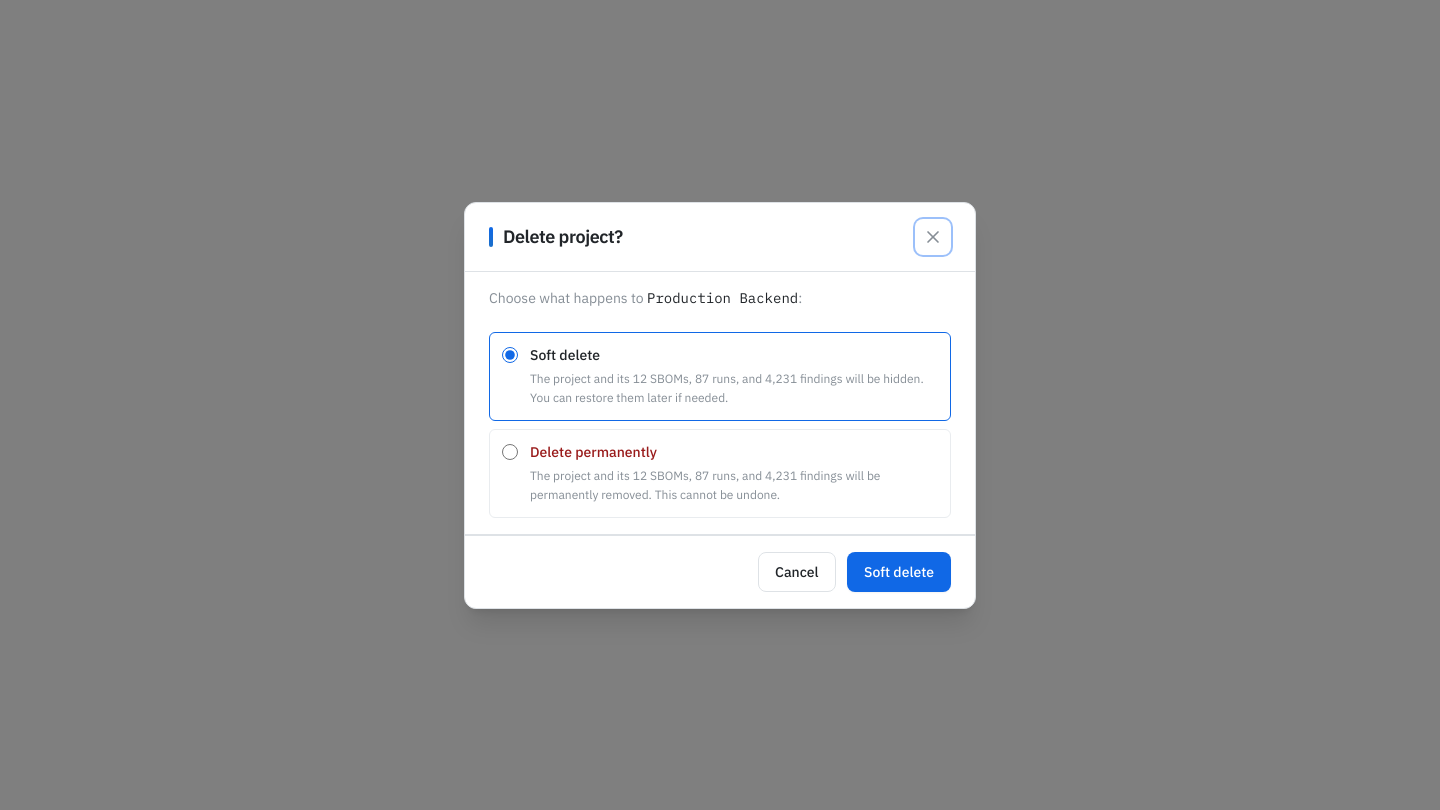
Test: DeleteConfirmDialog › shows the typed-name confirmation when permanent is selected
The image size is (1440, 810).
Step 1. Click the radio button labelled "Delete permanently" → (510, 452), box 502,444 -> 518,460
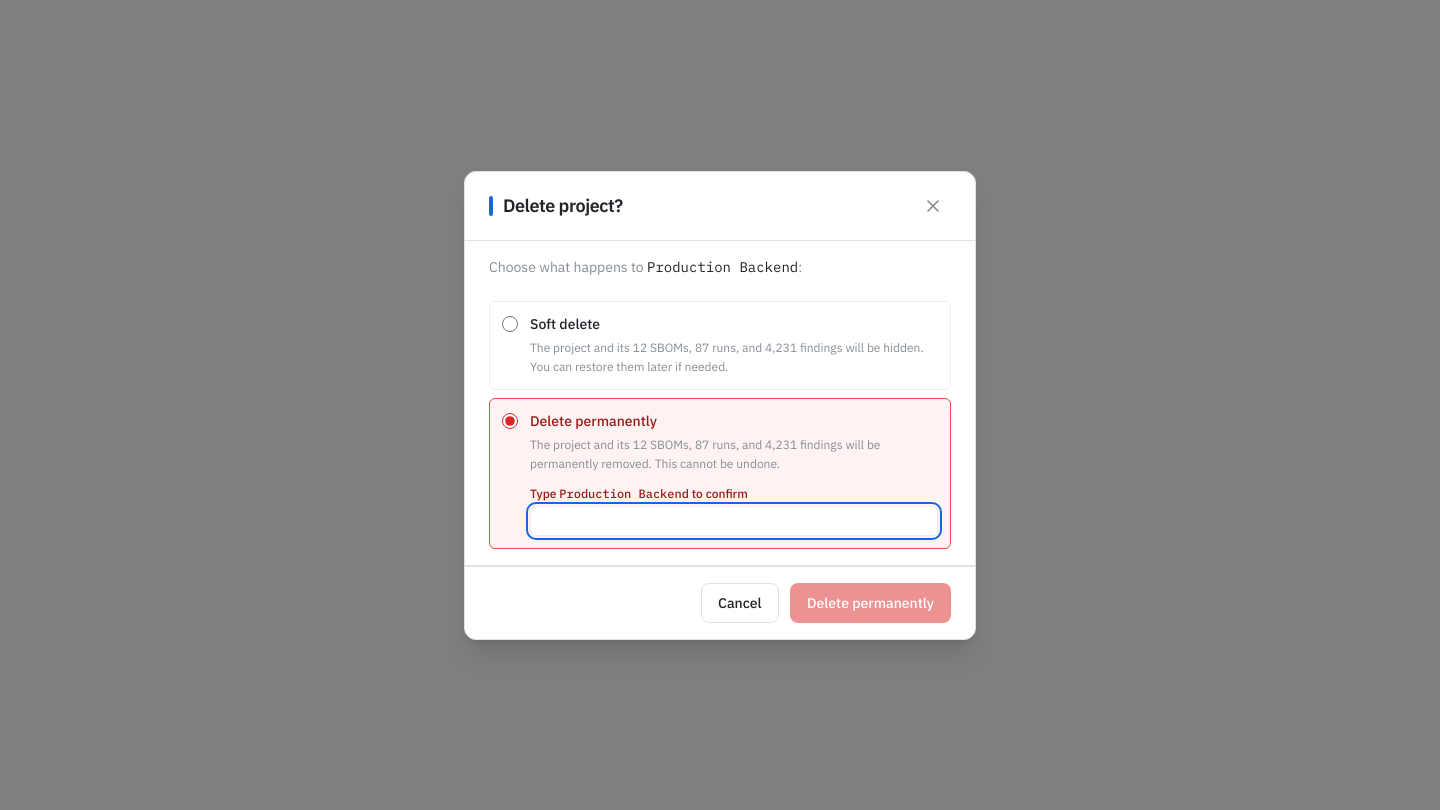
Check: the field labelled "Type Production Backend to confirm" is shown, box 530,506 -> 938,536
Check: the button "Delete permanently" is shown, box 790,582 -> 951,622
